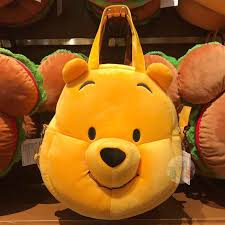Winnie: (63, 59, 174, 210)
